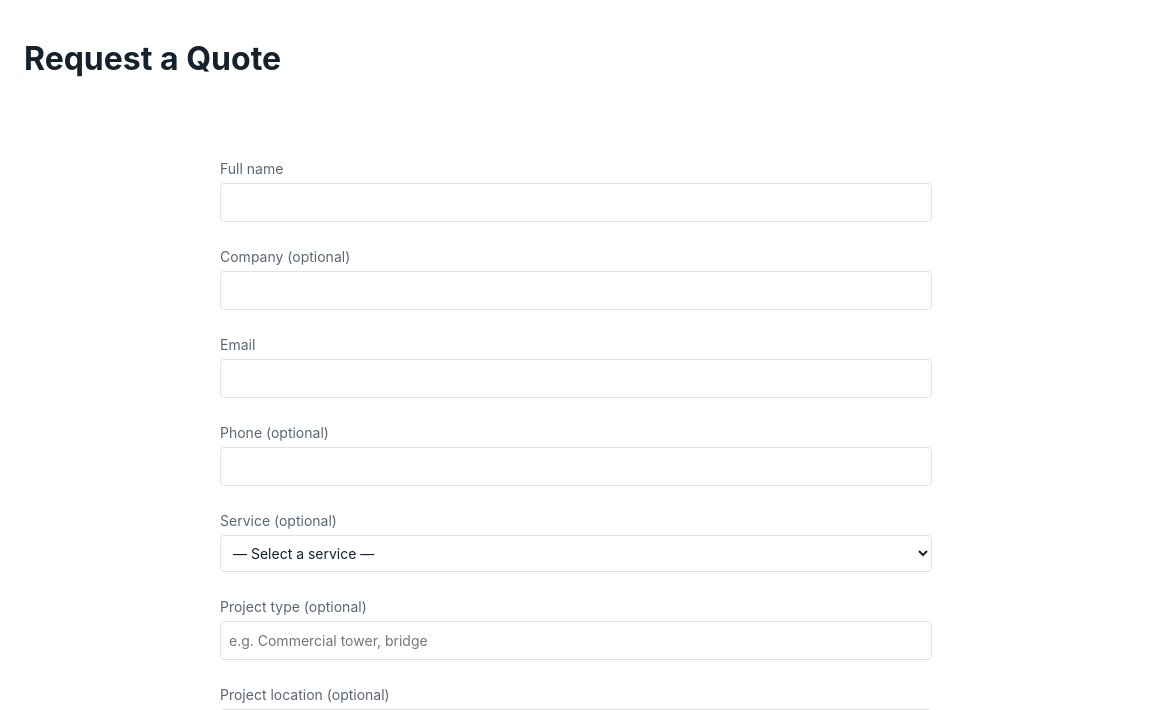
Test case: RequestQuotePage › submits with the chosen service slug and shows the reference
The width and height of the screenshot is (1152, 710).
Type "Jane Doe" into the field labelled "Full name". click: point(576, 203)
box: [220, 183, 932, 222]
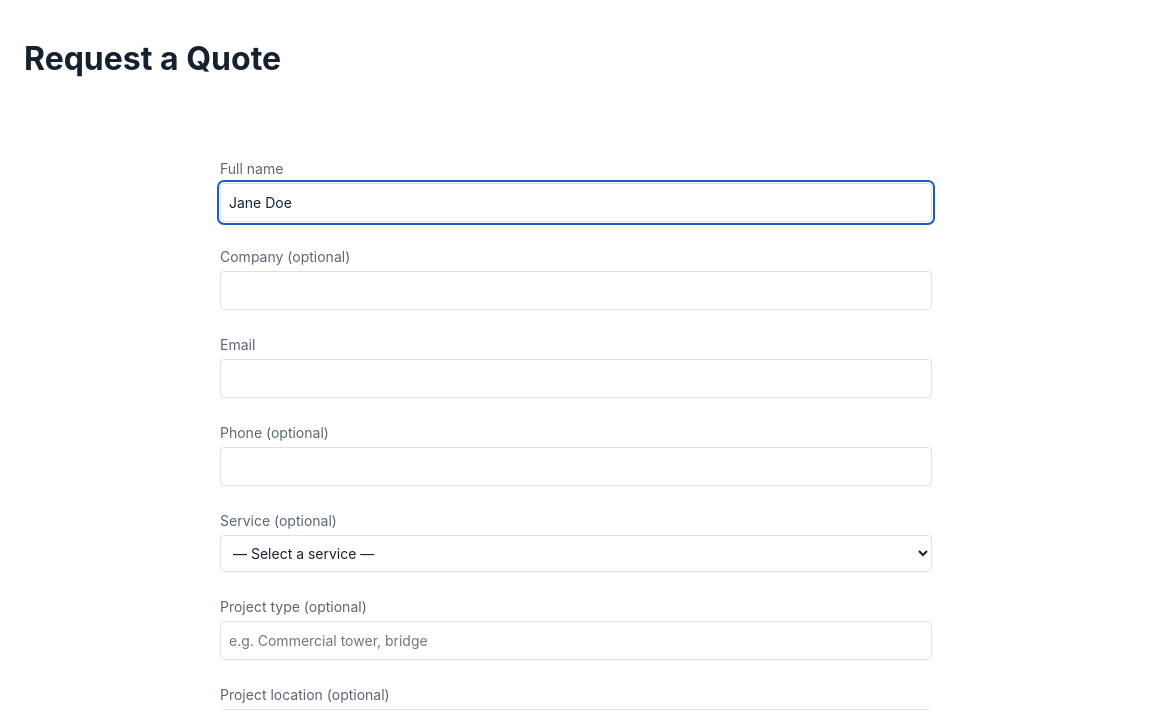
Type "jane@example.com" into the field labelled "Email". click: point(576, 379)
box: [220, 359, 932, 398]
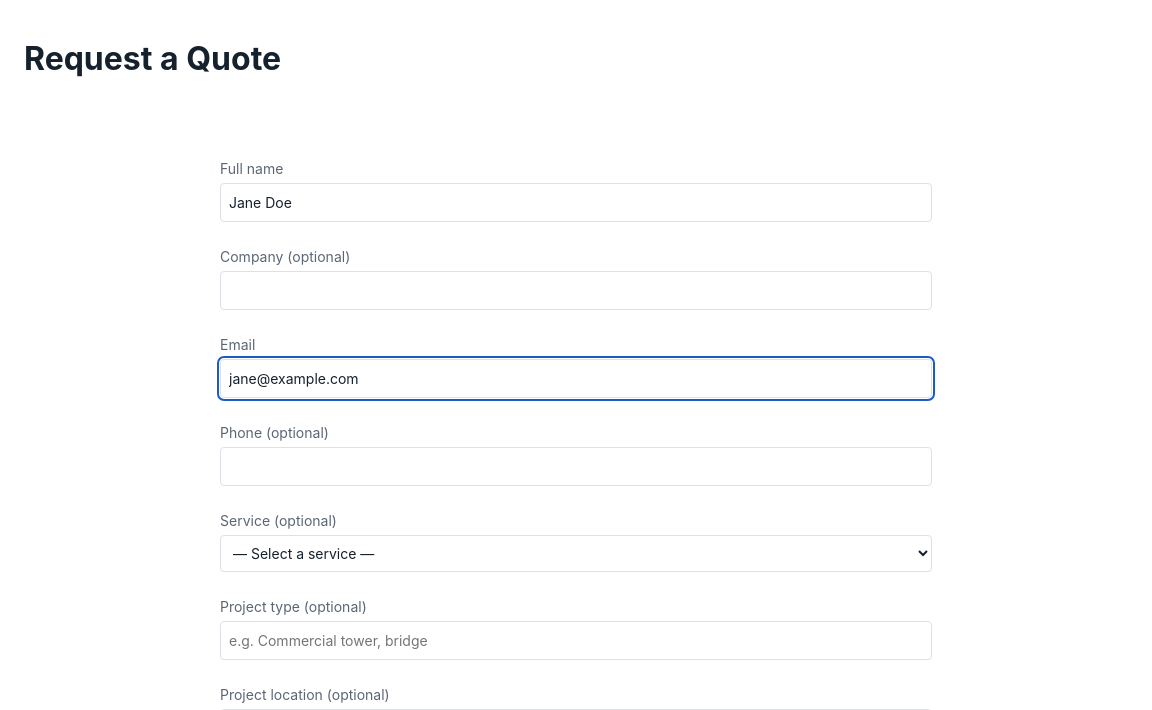
Select "Rebar Detailing" in the dropdown labelled "Service (optional)". click: point(576, 554)
box: [220, 535, 932, 572]
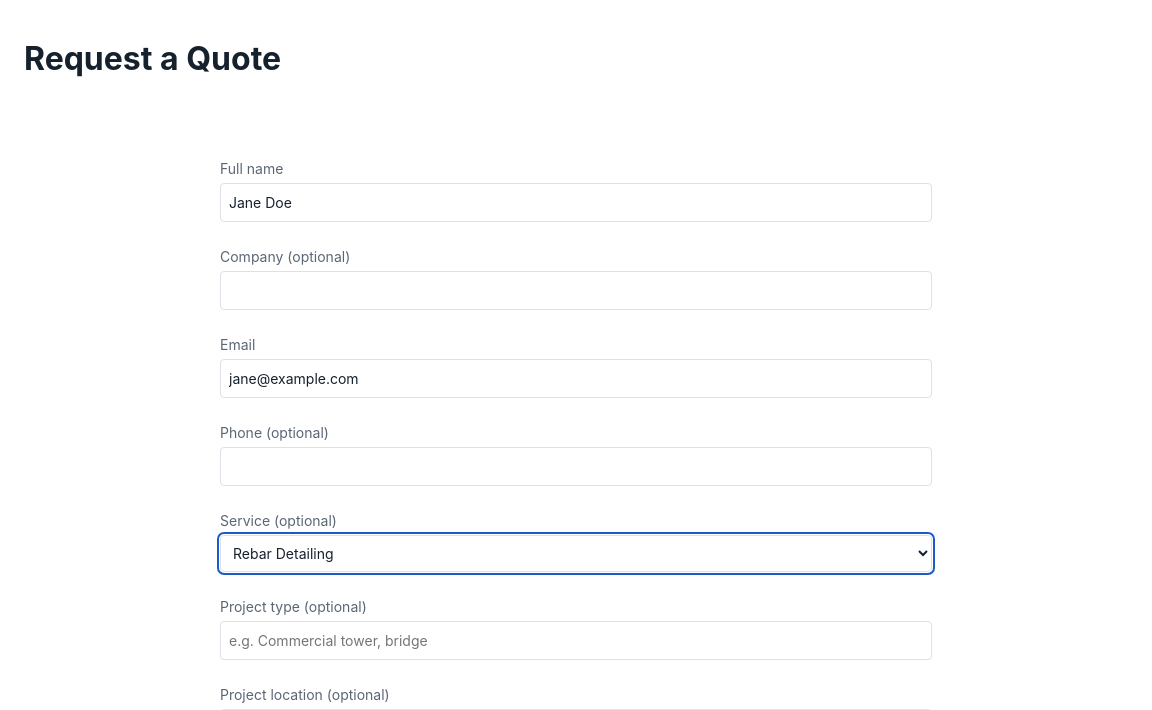
Type "Bridge" into the field labelled "Project type (optional)". click: point(576, 641)
box: [220, 621, 932, 660]
(page scrolled)
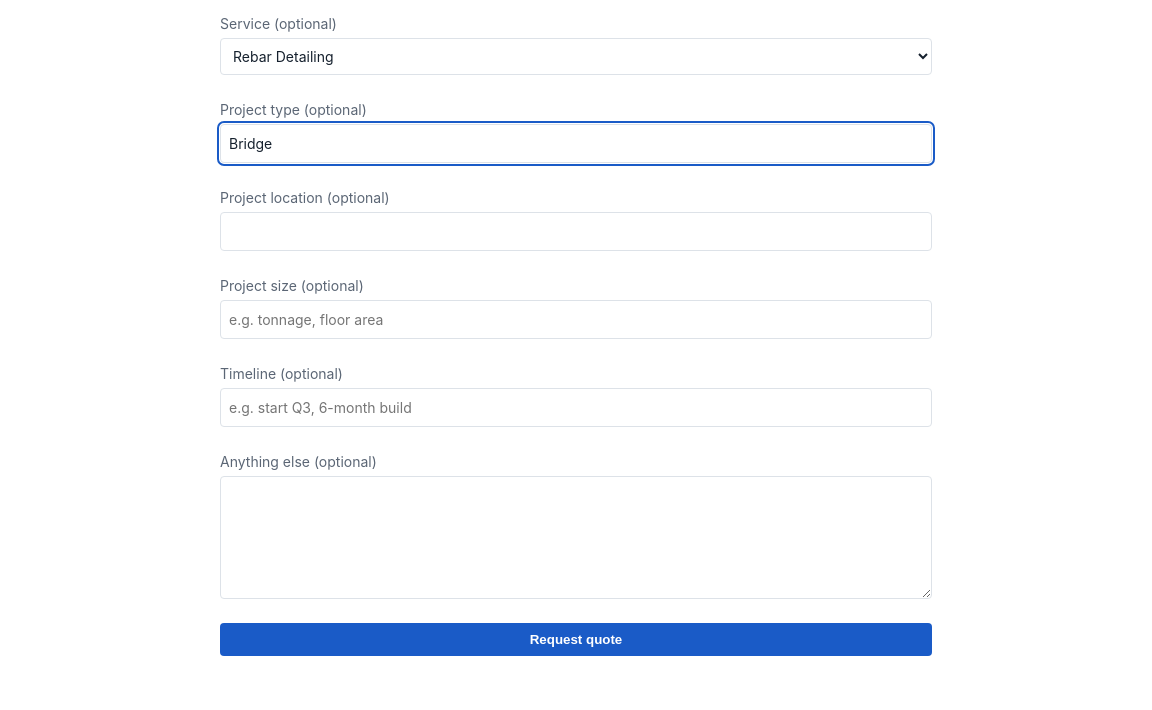
Click the button "Request quote". click: point(576, 640)
box: [220, 623, 932, 656]
(page scrolled)
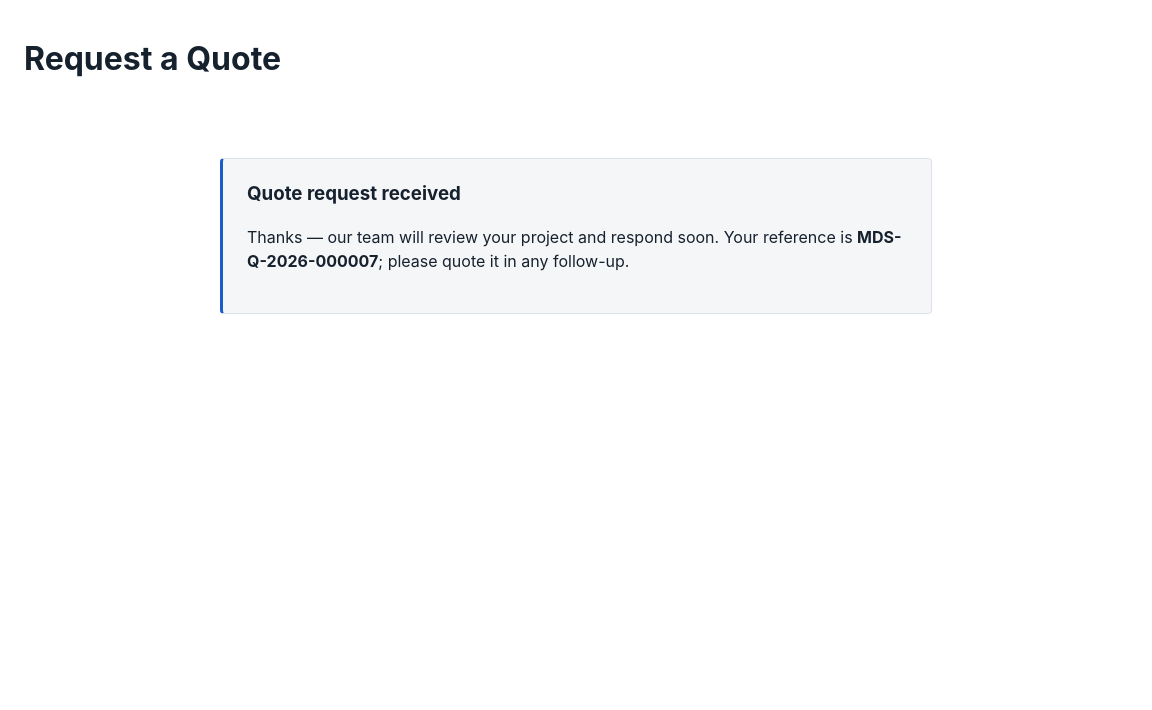
Expected: the heading "Quote request received" is shown, [247, 182, 461, 205]
Expected: the text "MDS-Q-2026-000007" is shown, [247, 227, 902, 271]
